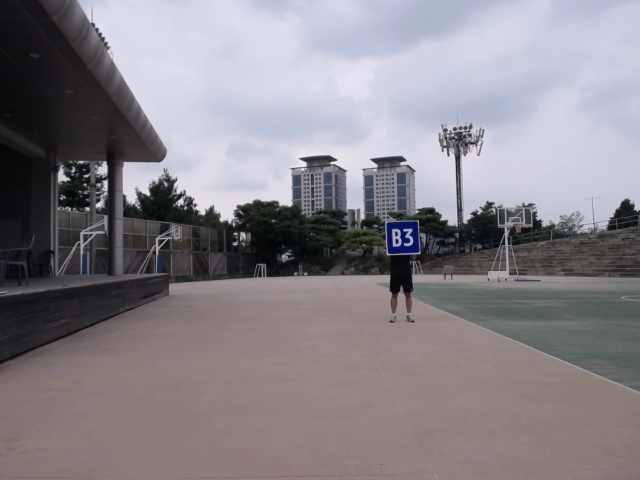delivery_b3: (383, 217, 422, 256)
